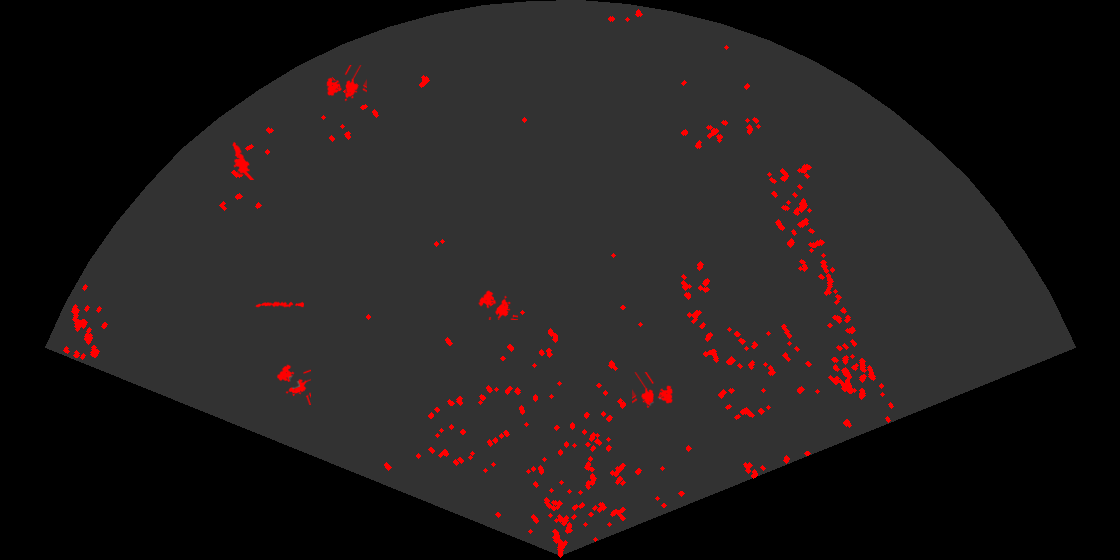cage: (632, 372, 674, 410), (325, 65, 367, 103), (275, 363, 311, 405), (477, 289, 518, 320)
chain: (254, 300, 304, 309)
frogman: (231, 140, 256, 180)
